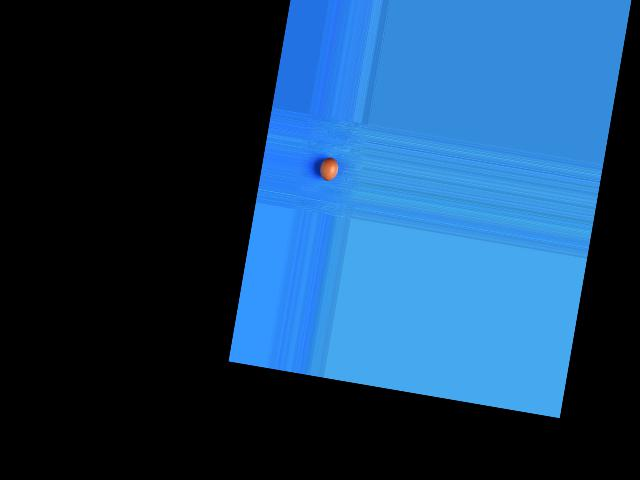egg: (317, 156, 339, 182)
